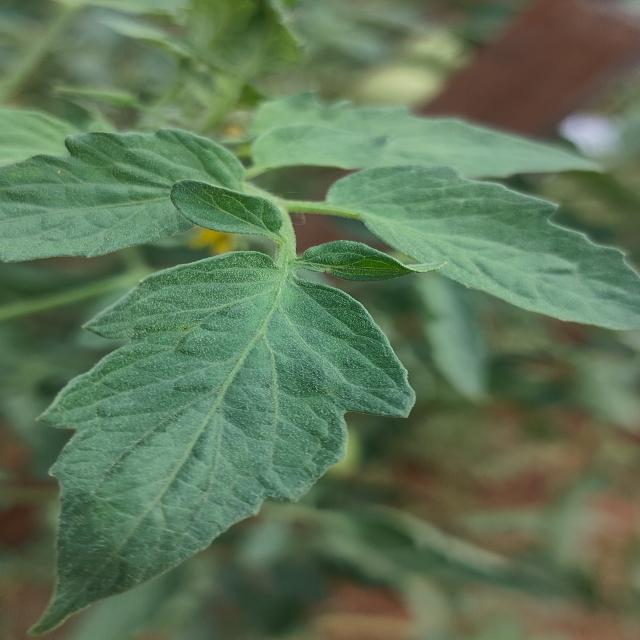tomato_healthy: (32, 252, 414, 634), (318, 165, 640, 330), (0, 104, 274, 268), (213, 88, 640, 187), (301, 232, 449, 292), (170, 179, 282, 243)
